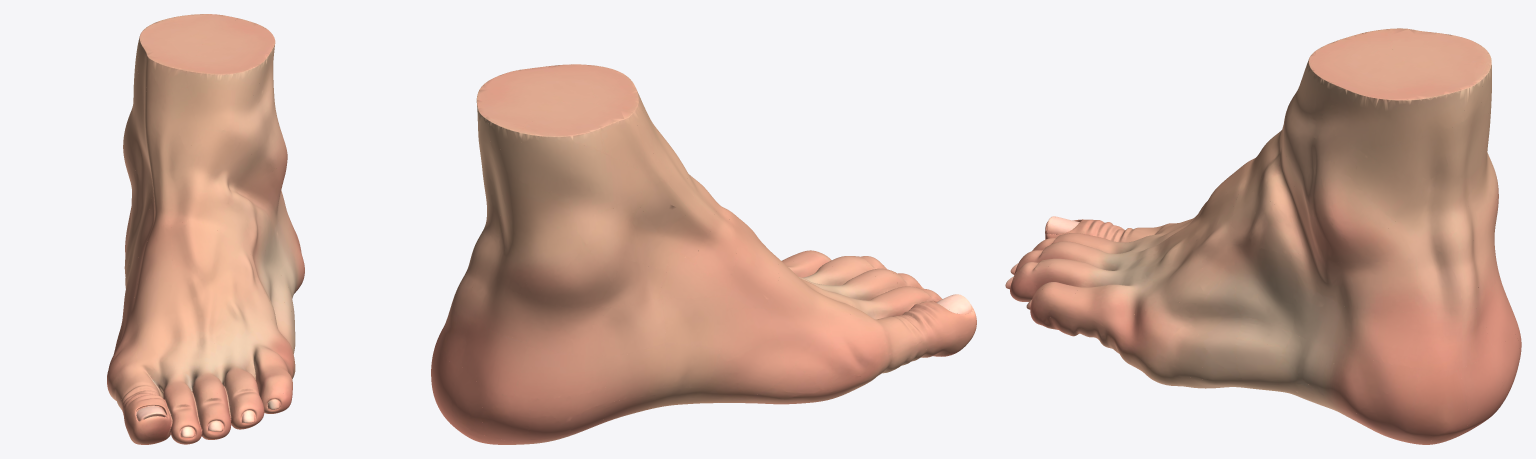
The model's file is podo360-foot-segmented.glb.
3 views of the same model, side by side, from view 1: azimuth 30°, elevation 25°; view 2: azimuth 150°, elevation 25°; view 3: azimuth 270°, elevation 25° (orthographic). The views are drawn at different scales.
Visible parts, largest first — view 1: Mesh_0; view 2: Mesh_0; view 3: Mesh_0.
Boxes of the visible parts, x1,y1,x2,y2 form: Mesh_0: (107, 14, 304, 444); Mesh_0: (431, 64, 976, 444); Mesh_0: (1005, 28, 1521, 444).
Bounding box in the file's own units: 1.67 × 1.41 × 1.9.
2 materials, 1 textured.
